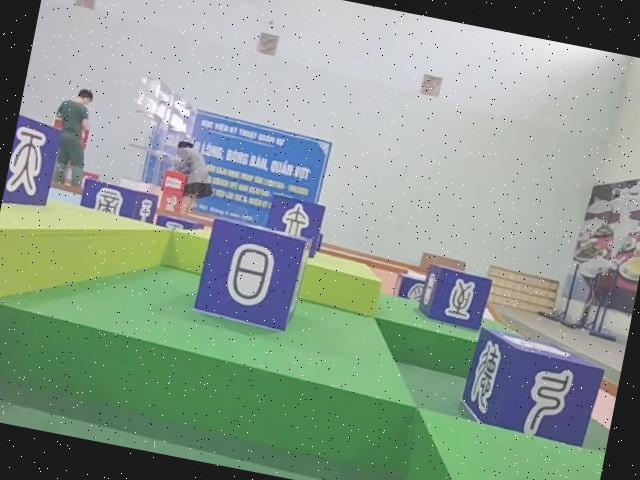R2 Fake Blue: (459, 328, 612, 452), (192, 217, 315, 337), (0, 113, 62, 216), (417, 264, 493, 334), (260, 193, 328, 259), (261, 193, 327, 258), (78, 177, 160, 224), (389, 272, 426, 305)
